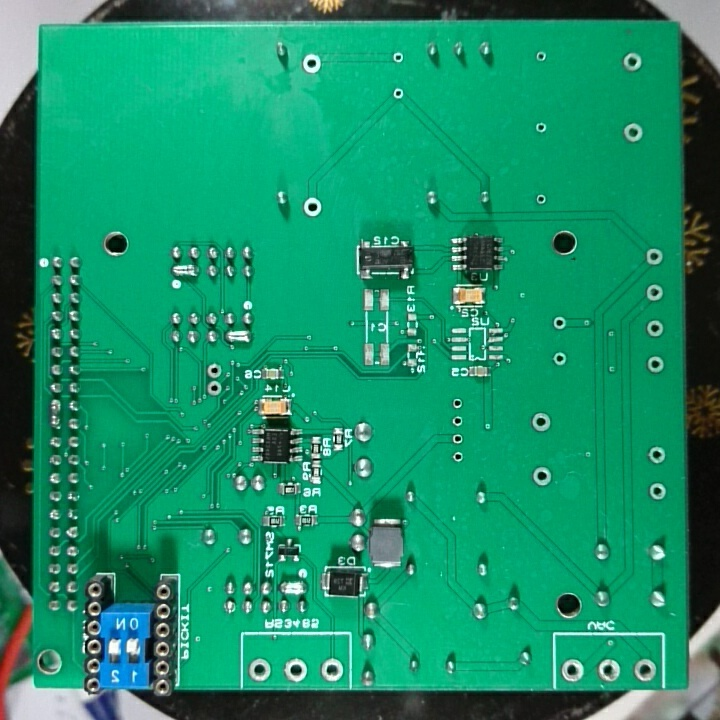F: (619, 47, 647, 79), (557, 656, 587, 685), (316, 656, 345, 685), (246, 655, 273, 686), (631, 655, 657, 687), (281, 656, 310, 684), (595, 655, 622, 684), (620, 119, 646, 147), (300, 50, 325, 78), (529, 464, 555, 489), (644, 443, 669, 469), (642, 281, 667, 307), (301, 194, 324, 222), (529, 410, 553, 434), (643, 353, 668, 376), (644, 316, 666, 342), (642, 246, 667, 268), (647, 480, 669, 503), (549, 348, 571, 370), (203, 361, 227, 380), (388, 84, 409, 105), (549, 313, 568, 335), (203, 380, 226, 398), (447, 413, 467, 432), (389, 48, 407, 69), (533, 46, 551, 67), (447, 432, 467, 450), (448, 448, 467, 466), (533, 118, 550, 137), (448, 396, 467, 412), (533, 190, 550, 207)
P: (169, 260, 202, 282), (46, 395, 66, 431), (221, 327, 258, 346), (276, 577, 308, 597)
